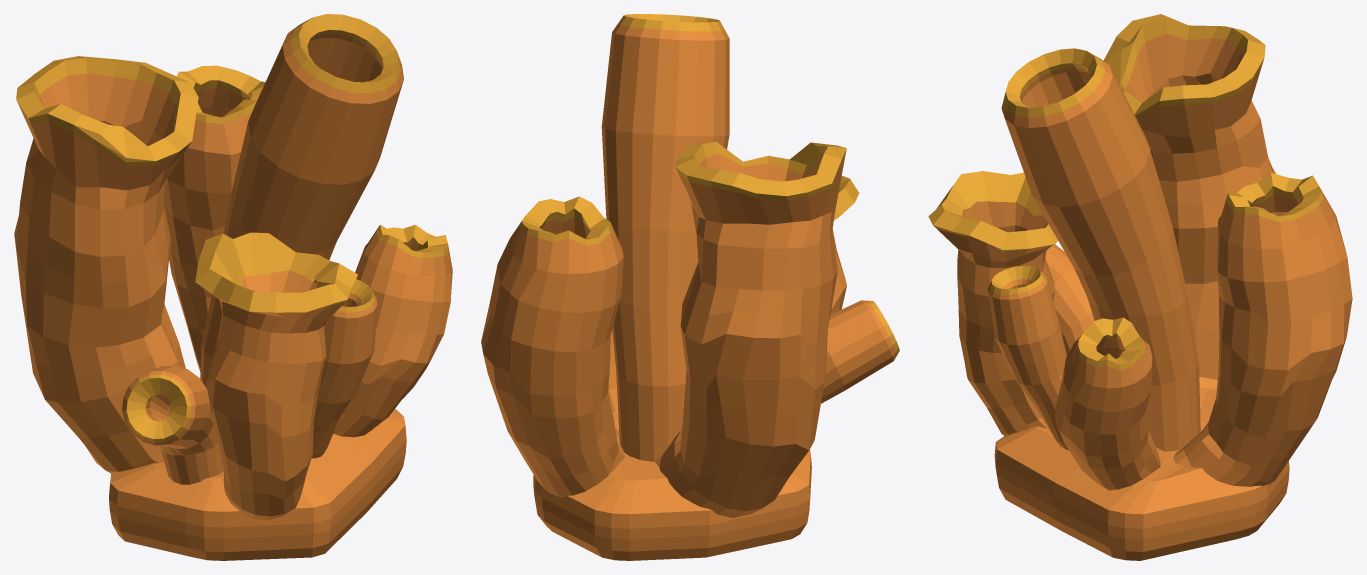
Rendered from TubeCoral.fbx.
The picture shows the model from 3 angles, left to right: view 1: azimuth 30°, elevation 25°; view 2: azimuth 150°, elevation 25°; view 3: azimuth 270°, elevation 25°; orthographic projection. The views are drawn at different scales.
Parts seen in each view (by area): view 1: TubeCoral; view 2: TubeCoral; view 3: TubeCoral.
Part boxes in pixels (x1,y1,x2,y2): TubeCoral: (14, 14, 452, 560); TubeCoral: (481, 14, 899, 560); TubeCoral: (928, 14, 1352, 560).
Size of the model in its own units: 1.92 by 2.49 by 2.02.
